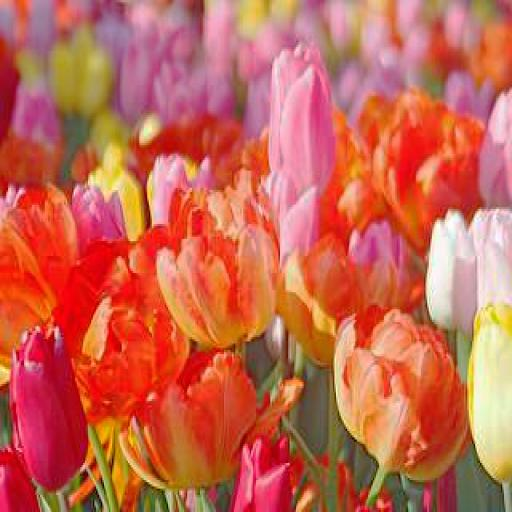tulip: (46, 237, 192, 414), (334, 303, 472, 480), (275, 235, 426, 369), (160, 188, 283, 350), (122, 354, 258, 495), (378, 92, 494, 237), (8, 324, 91, 497), (266, 34, 338, 192), (464, 303, 512, 491), (149, 154, 214, 239), (232, 435, 301, 512)
